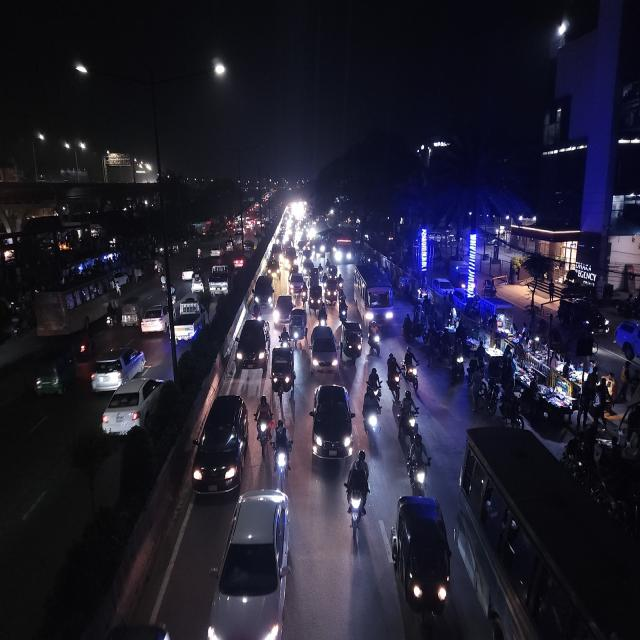bus: (458, 425, 639, 640), (33, 271, 117, 334), (354, 261, 396, 328)
car: (209, 486, 293, 640), (190, 391, 250, 503), (100, 374, 168, 444), (309, 378, 353, 472), (88, 343, 148, 393), (234, 316, 271, 373), (309, 322, 339, 377), (140, 298, 170, 336), (254, 274, 276, 311), (274, 292, 294, 326), (431, 275, 453, 303), (288, 268, 306, 300), (282, 245, 299, 270), (266, 258, 280, 280), (180, 265, 196, 282), (232, 253, 245, 271)
cng: (389, 492, 453, 636), (33, 348, 77, 402), (270, 344, 295, 403), (344, 318, 362, 364), (290, 307, 308, 350), (120, 295, 140, 328), (309, 280, 323, 314), (325, 277, 337, 307)
motorcycle: (343, 448, 371, 540), (362, 364, 382, 446), (406, 435, 430, 495), (272, 416, 292, 482), (254, 392, 274, 450), (399, 388, 419, 440), (402, 346, 420, 386), (387, 350, 401, 400), (368, 364, 381, 412), (366, 319, 382, 357), (77, 328, 95, 359), (103, 299, 119, 330), (337, 295, 349, 325), (158, 268, 168, 291), (252, 297, 262, 320), (168, 281, 177, 302)
pickup_van: (173, 294, 205, 344), (207, 262, 231, 301)
